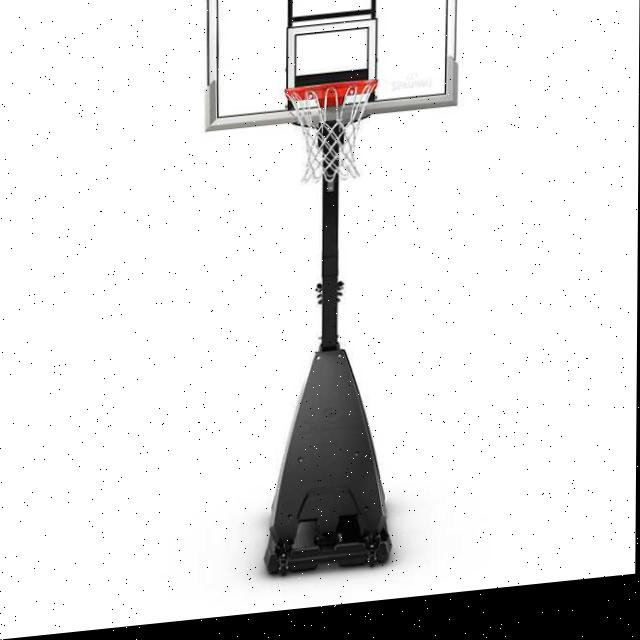hoop: (286, 79, 379, 187)
